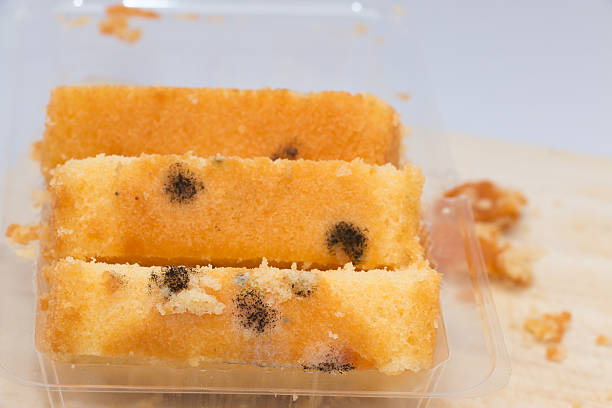mold_bread: (220, 271, 284, 341), (322, 217, 372, 270), (302, 338, 359, 380), (161, 159, 207, 210), (153, 258, 194, 304), (270, 136, 303, 168), (287, 272, 317, 304)
